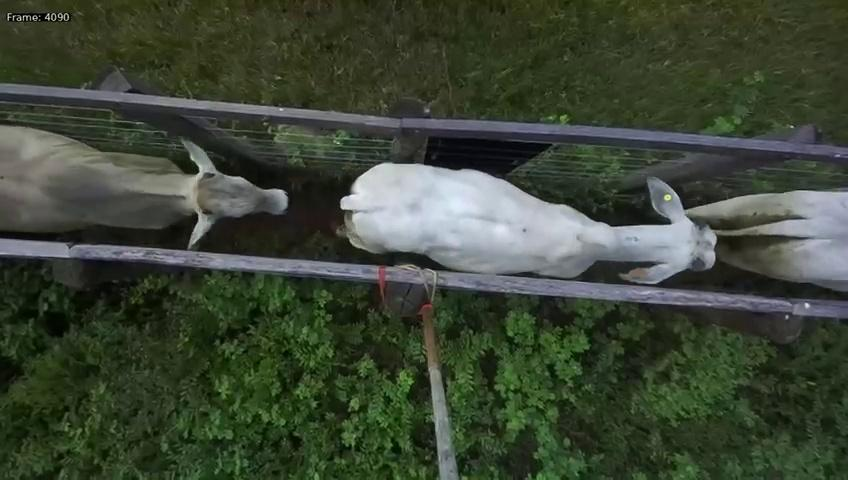cattle: (341, 144, 723, 288), (0, 114, 306, 251)
